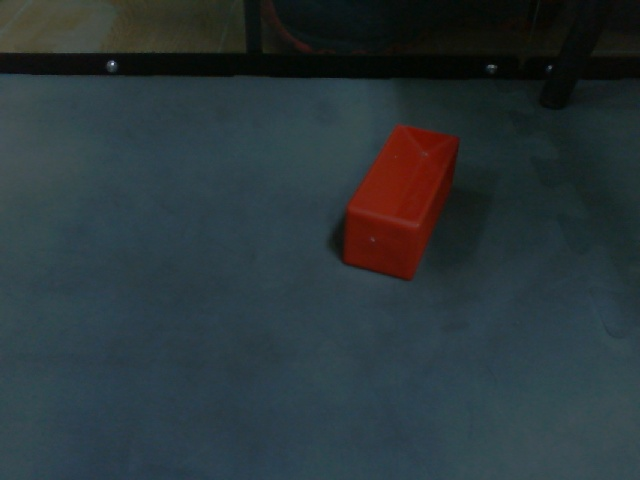RedSample: (339, 120, 462, 286)
